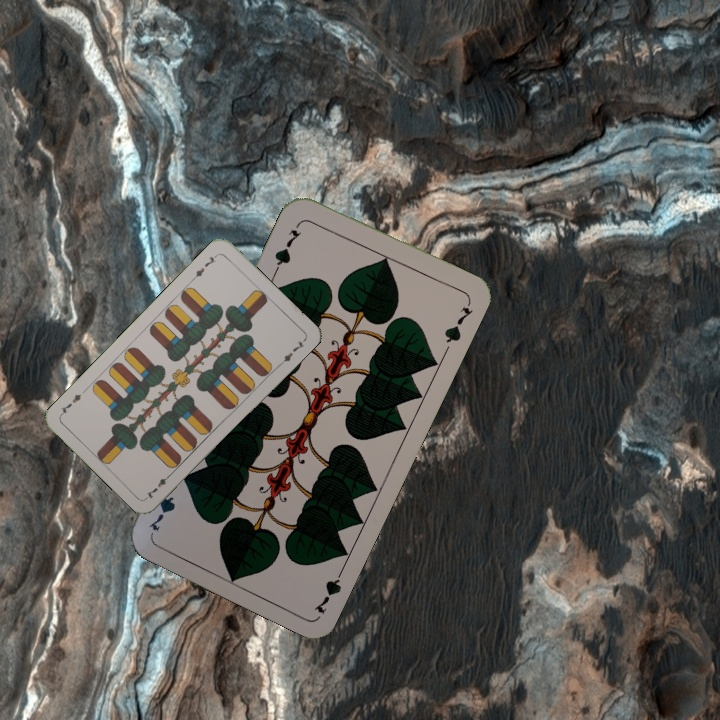E7: (188, 250, 221, 282), (142, 469, 175, 501)
G7: (309, 561, 348, 617), (270, 217, 305, 273)
